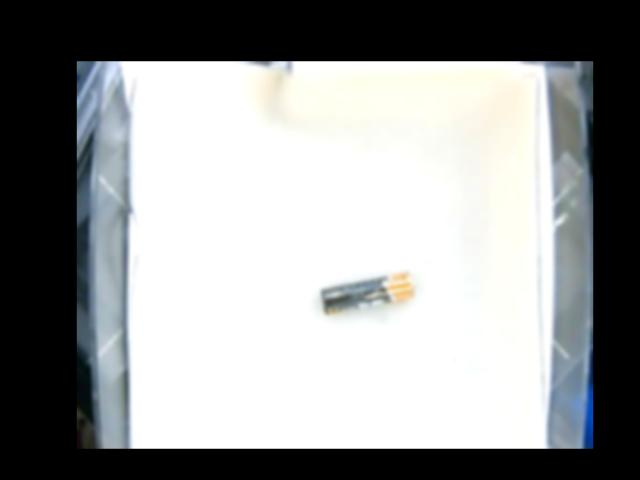Battery: (320, 272, 416, 317)
